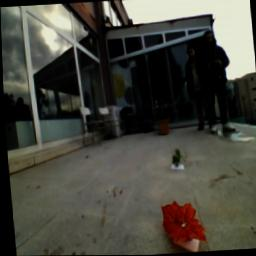herb: (169, 150, 183, 168)
wild: (159, 198, 206, 246)
